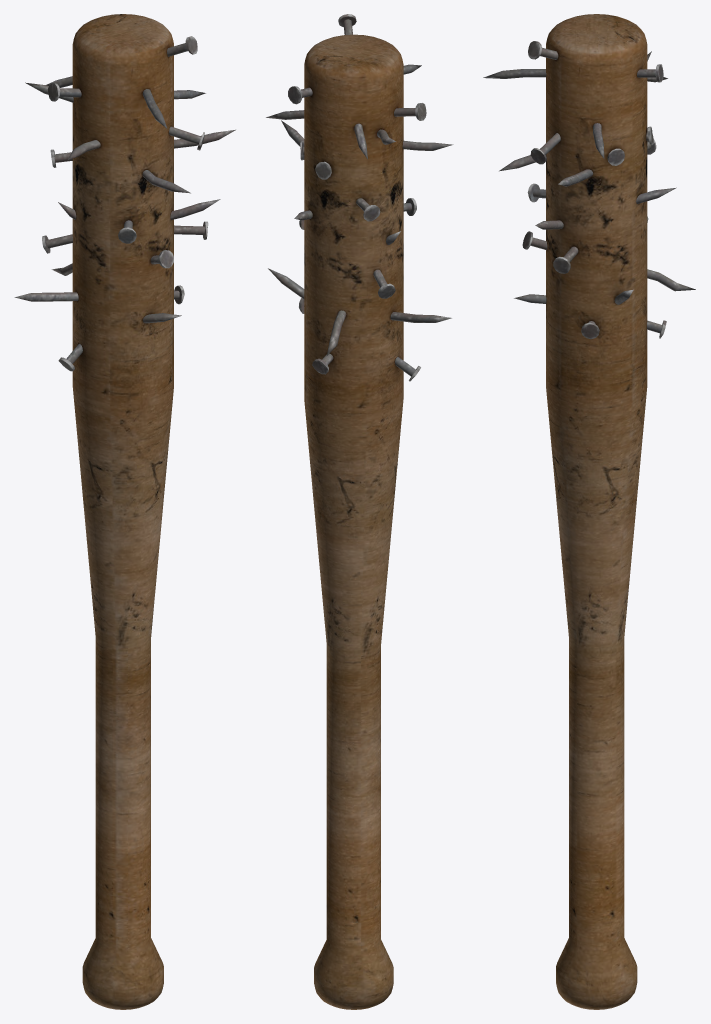
Rendered from cc0-melee-weapons-pack-glb--nailbat.glb.
3 renders of one model, left to right at view 1: azimuth 30°, elevation 25°; view 2: azimuth 150°, elevation 25°; view 3: azimuth 270°, elevation 25°, orthographic. The views are drawn at different scales.
Visible parts, largest first — view 1: NailBat; view 2: NailBat; view 3: NailBat.
Part boxes in pixels (x1,y1,x2,y2): NailBat: (14, 14, 235, 1009); NailBat: (266, 14, 453, 1009); NailBat: (483, 14, 695, 1009).
Bounding box in the file's own units: 0.1813 × 0.8483 × 0.169.
1 material, 1 textured.
